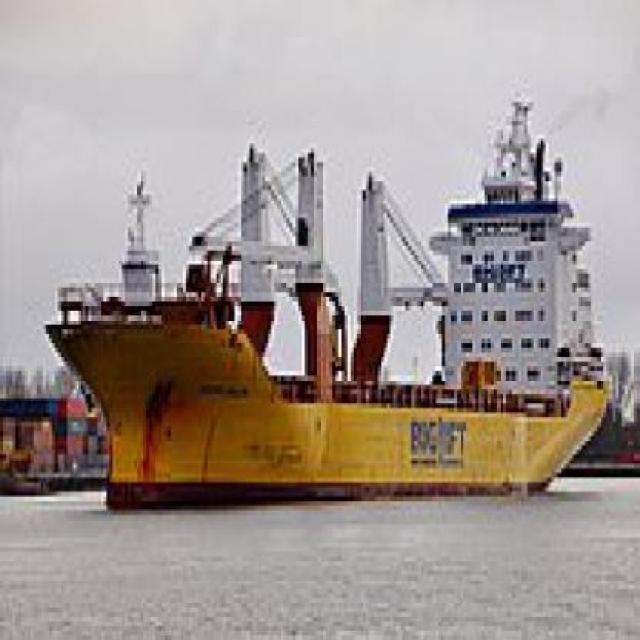container: (41, 89, 624, 512)
